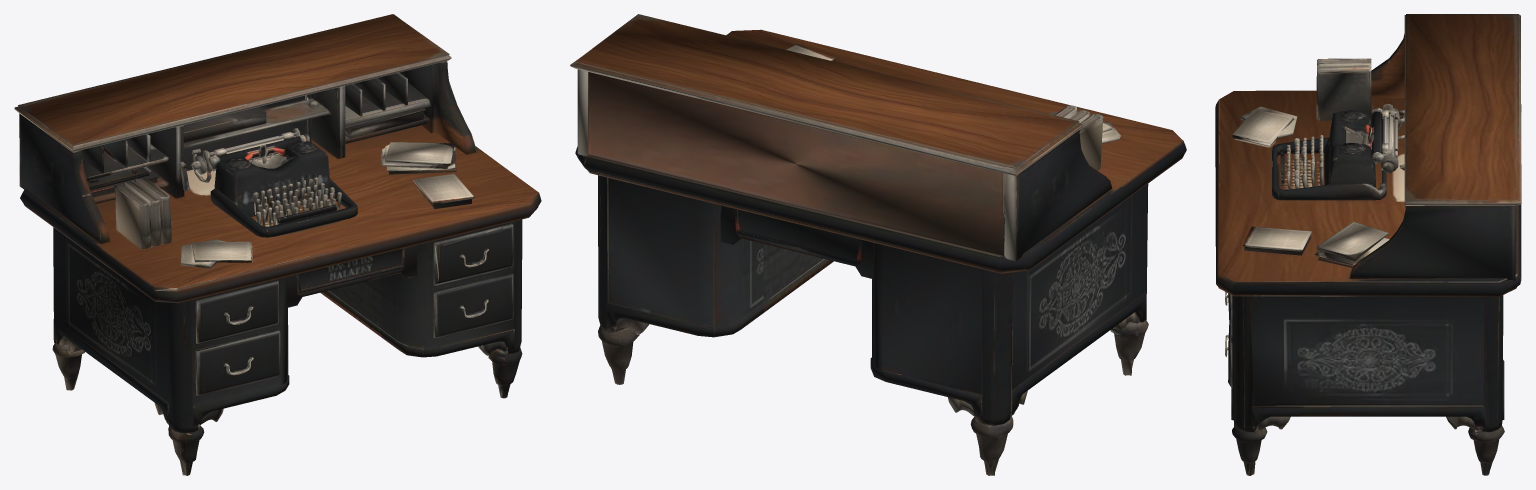
Rendered from desk.glb.
3 renders of one model, left to right at view 1: azimuth 30°, elevation 25°; view 2: azimuth 150°, elevation 25°; view 3: azimuth 270°, elevation 25°, orthographic. The views are drawn at different scales.
Bounding box in the file's own units: 0.9497 × 0.6567 × 0.6392.
1 material, 1 textured.
